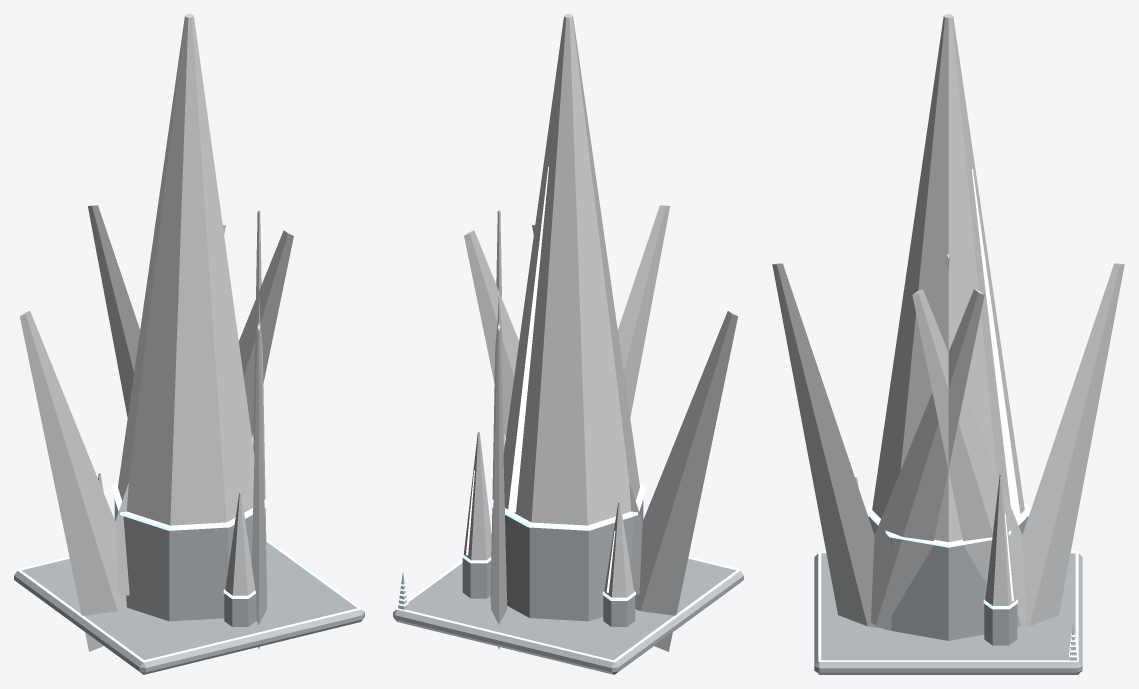
The model's file is zone_high_1_t5.glb.
The picture shows the model from 3 angles, left to right: view 1: azimuth 30°, elevation 25°; view 2: azimuth 150°, elevation 25°; view 3: azimuth 270°, elevation 25°; orthographic projection. The views are drawn at different scales.
Visible parts, largest first — view 1: zone_high_1_t5, detail; view 2: zone_high_1_t5, detail; view 3: zone_high_1_t5, detail.
Part boxes in pixels (<box>): zone_high_1_t5: <box>14,14,364,674</box>; detail: <box>17,539,361,662</box>; zone_high_1_t5: <box>393,14,743,674</box>; detail: <box>396,557,740,662</box>; zone_high_1_t5: <box>772,14,1124,674</box>; detail: <box>818,551,1078,661</box>.
Bounding box in the file's own units: 34.46 × 71.3 × 36.16.
